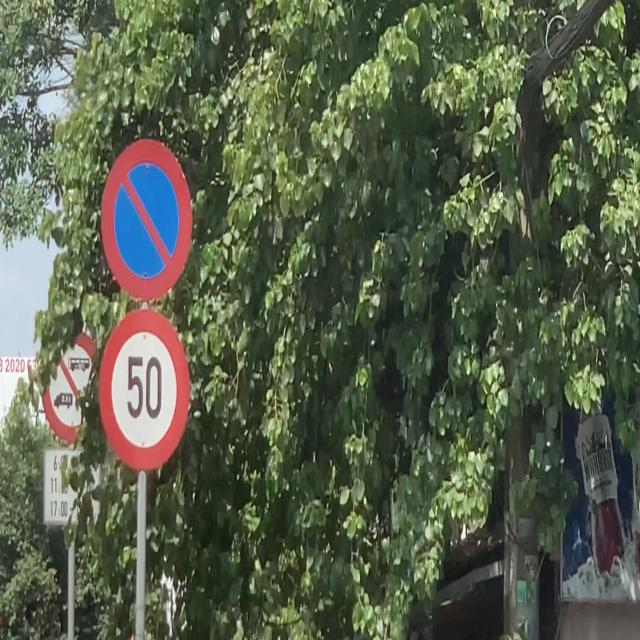Cam con lai: (42, 333, 98, 443)
Cam do: (100, 141, 195, 309)
Toc do toi da: (101, 306, 195, 478)
